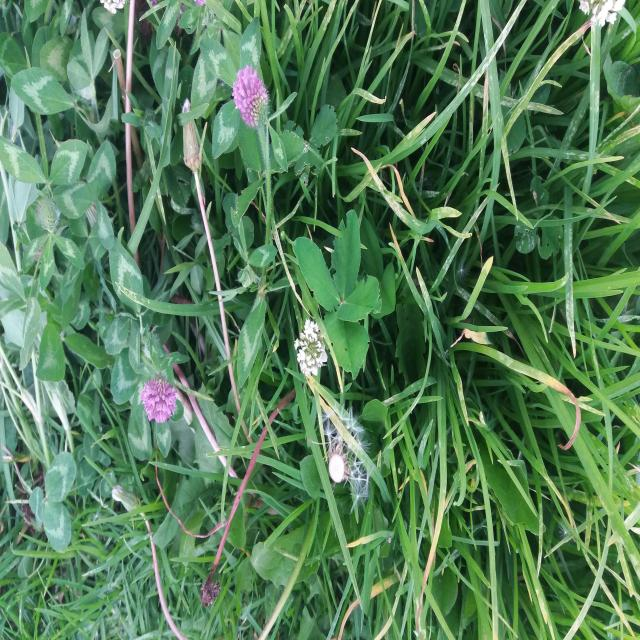Four Leaf Clover: (292, 210, 382, 380)
